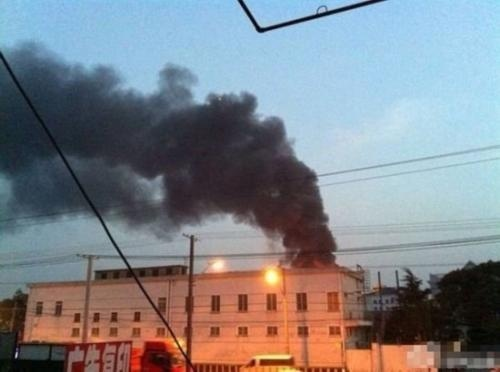fire: (264, 264, 282, 285)
